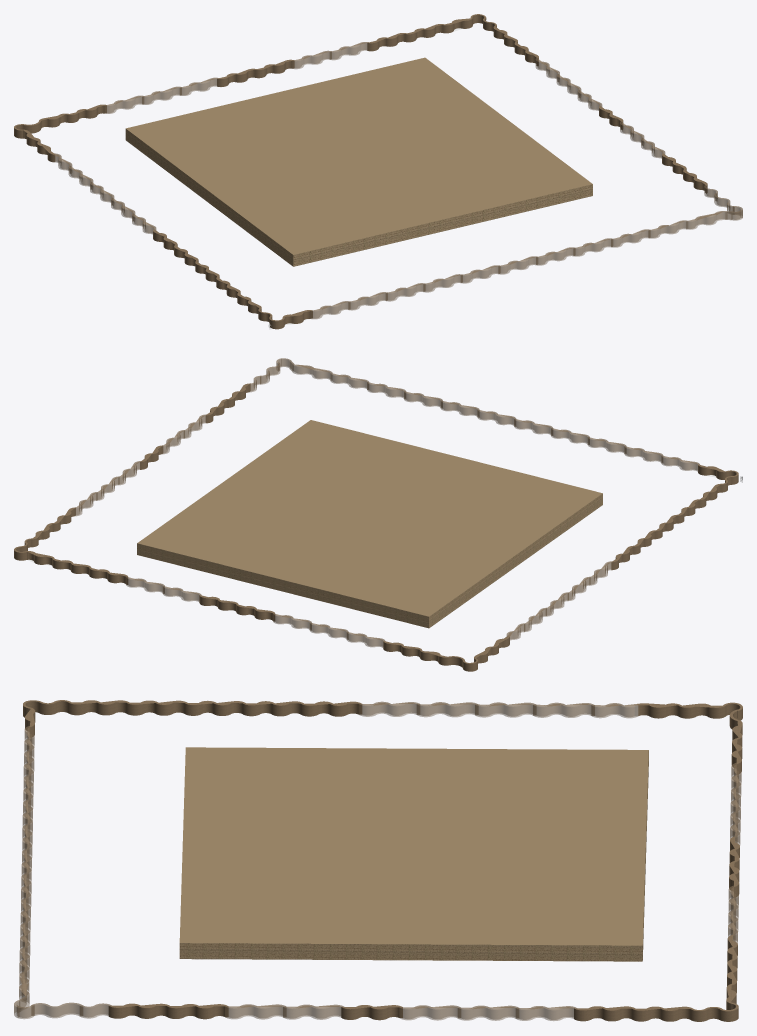
The model's file is Unfinished_SSaqqara.obj.
The picture shows the model from 3 angles, top to bottom: view 1: azimuth 30°, elevation 25°; view 2: azimuth 150°, elevation 25°; view 3: azimuth 270°, elevation 25°; orthographic projection. The views are drawn at different scales.
Visible parts, largest first — view 1: Mesh41 Model, Mesh46 Model, Mesh43 Model, Mesh42 Model, Mesh44 Model; view 2: Mesh41 Model, Mesh46 Model, Mesh43 Model, Mesh44 Model, Mesh42 Model; view 3: Mesh41 Model, Mesh46 Model, Mesh44 Model, Mesh42 Model, Mesh35 Sinusoidal_Wall35 Model, Mesh9 Sinusoidal_Wall9 Model, Mesh4 Sinusoidal_Wall4 Model, Mesh8 Sinusoidal_Wall8 Model, Mesh34 Sinusoidal_Wall34 Model, Mesh7 Sinusoidal_Wall7 Model, Mesh24 Sinusoidal_Wall24 Model, Mesh5 Sinusoidal_Wall5 Model (+13 smaller).
Boxes of the visible parts, x1,y1,x2,y2 form: Mesh41 Model: (125,57,592,266); Mesh46 Model: (686,185,742,229); Mesh43 Model: (258,308,312,329); Mesh42 Model: (442,14,496,33); Mesh44 Model: (14,124,55,162); Mesh41 Model: (137,420,602,628); Mesh46 Model: (249,358,332,392); Mesh43 Model: (698,464,738,492); Mesh44 Model: (462,635,509,671); Mesh42 Model: (14,538,54,565); Mesh41 Model: (179,747,648,961); Mesh46 Model: (14,971,111,1019); Mesh44 Model: (634,702,742,720); Mesh42 Model: (690,984,738,1021); Mesh35 Sinusoidal_Wall35 Model: (300,701,362,716); Mesh9 Sinusoidal_Wall9 Model: (166,1004,228,1019); Mesh4 Sinusoidal_Wall4 Model: (457,1005,518,1020); Mesh8 Sinusoidal_Wall8 Model: (225,1004,286,1019); Mesh34 Sinusoidal_Wall34 Model: (416,702,478,717); Mesh7 Sinusoidal_Wall7 Model: (399,1005,460,1020); Mesh24 Sinusoidal_Wall24 Model: (475,702,536,717); Mesh5 Sinusoidal_Wall5 Model: (341,1005,402,1020).
Bounding box in the file's own units: 126 × 3.01 × 124.
Materials: 18 (16 with a texture image).
